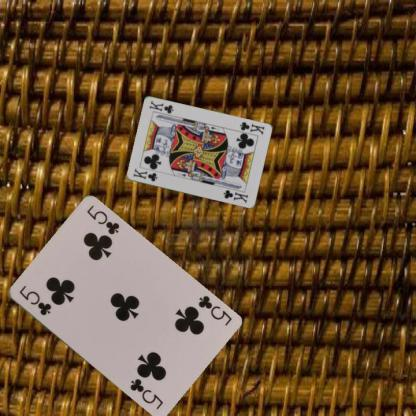5c: (195, 292, 233, 327), (16, 283, 52, 317)
Kc: (237, 120, 266, 136), (131, 166, 158, 182)
